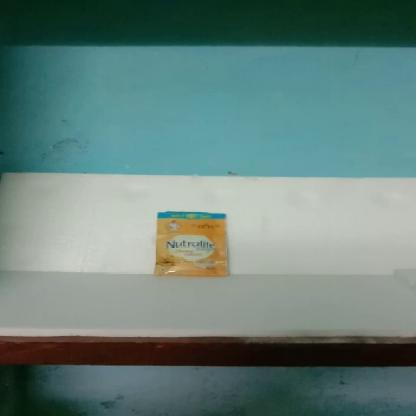Nutralite CHEESY GARLIC MAYO 30g: (154, 214, 230, 277)
